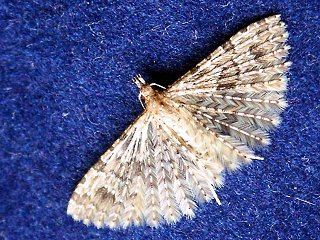Alucitidae: (68, 9, 298, 234)
moth: (66, 7, 296, 232)
